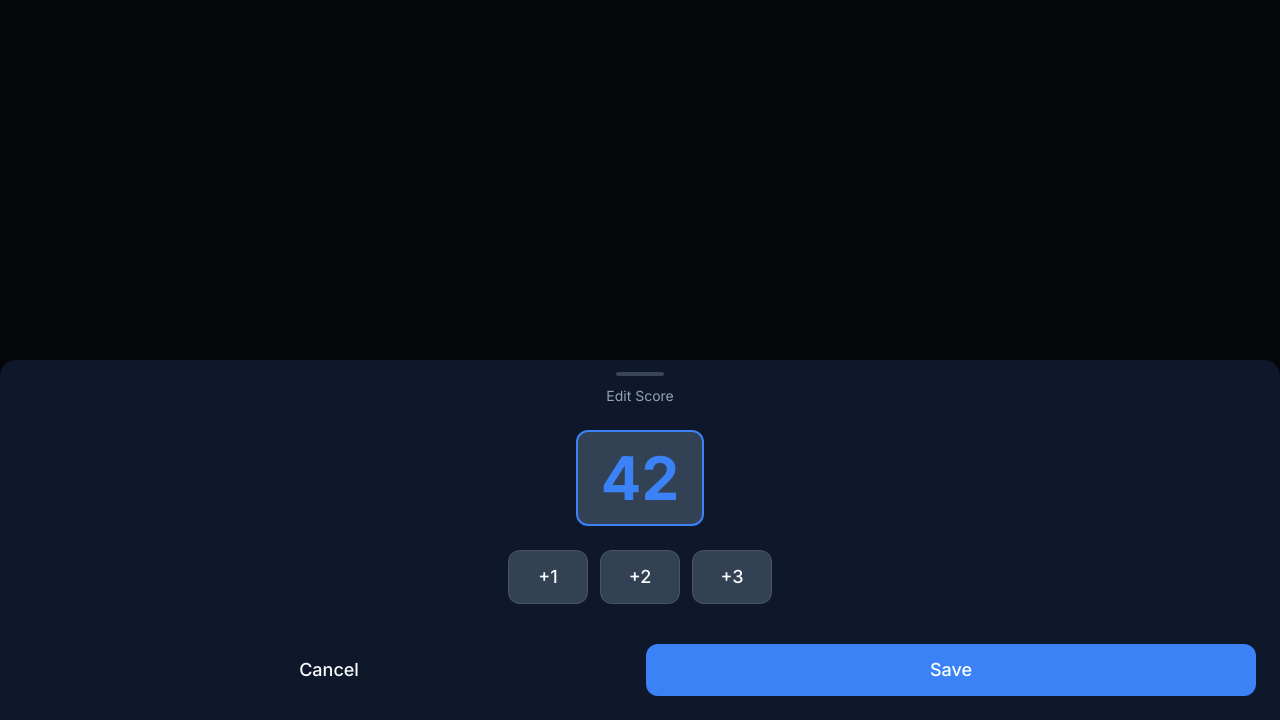
Test: ScoreEditSheet › error handling › should clear error on successful retry
The width and height of the screenshot is (1280, 720).
(page scrolled)
Click the button "Save".
click(951, 670)  # box [646,644,1256,696]
(page scrolled)
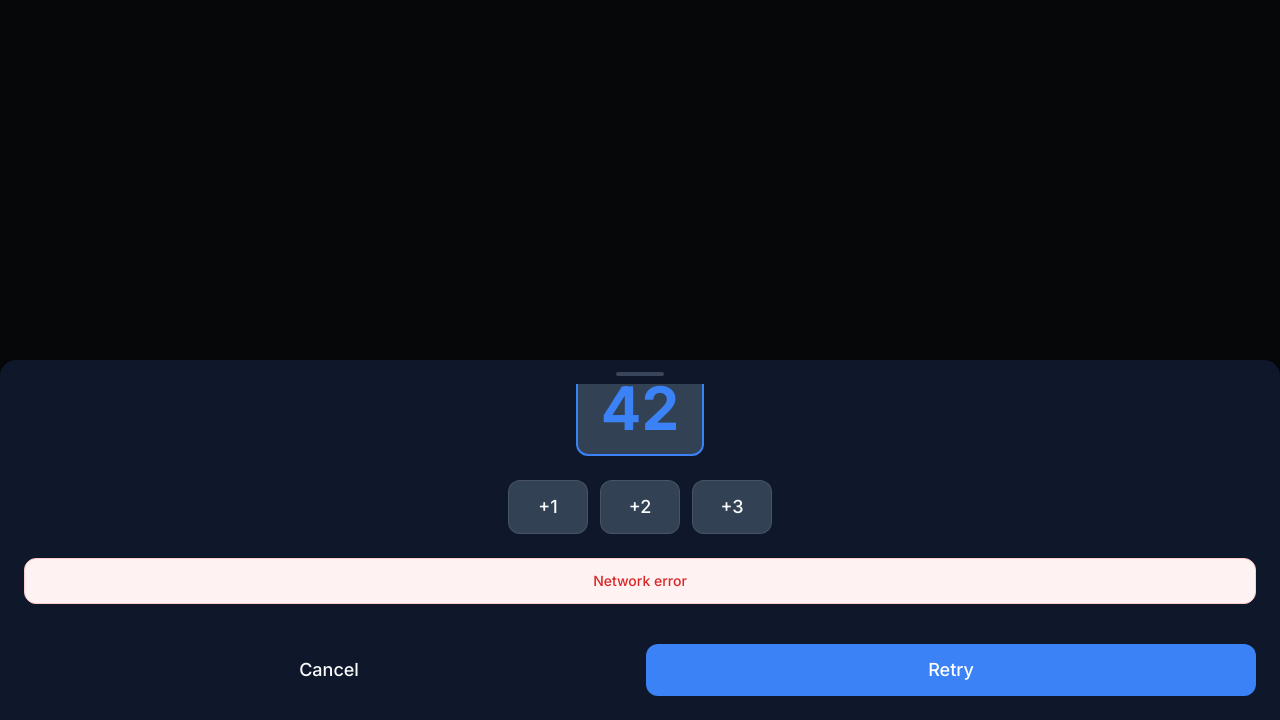
Now the text "Network error" is shown, box [593,572,687,589]
Click the button with test id "btn-retry".
click(951, 670)  # box [646,644,1256,696]
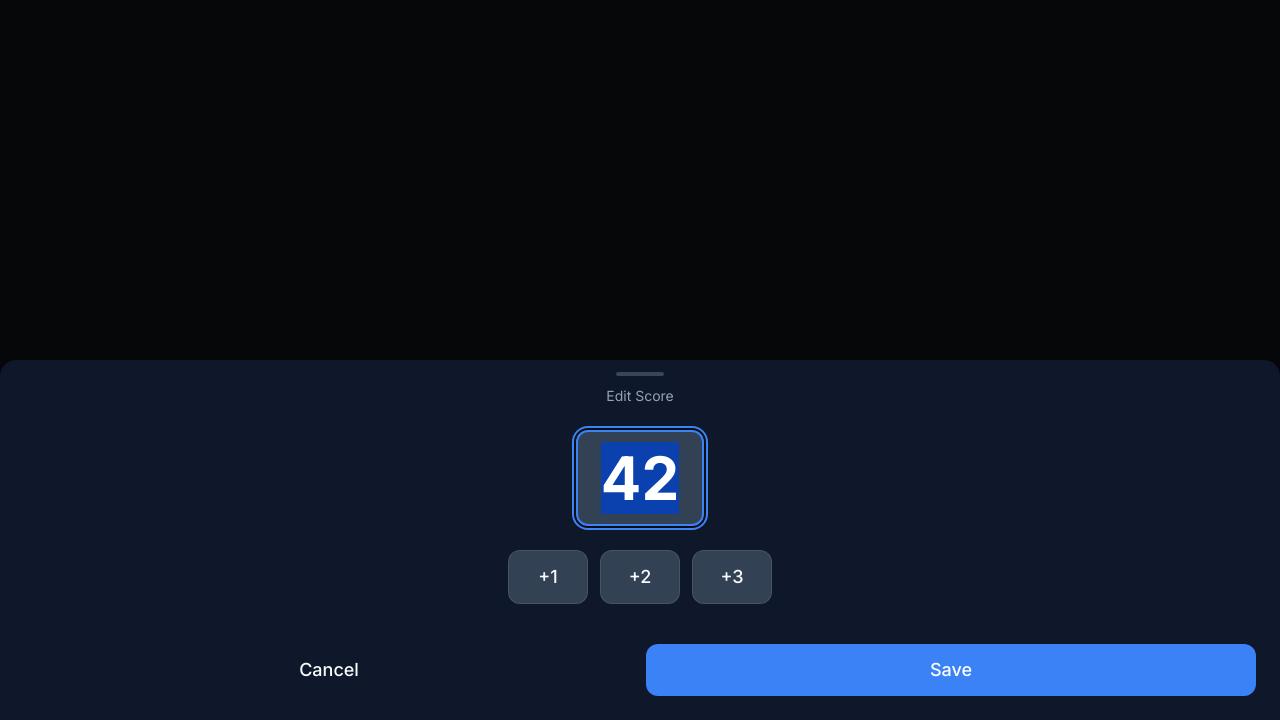
Now the text "Network error" is gone
